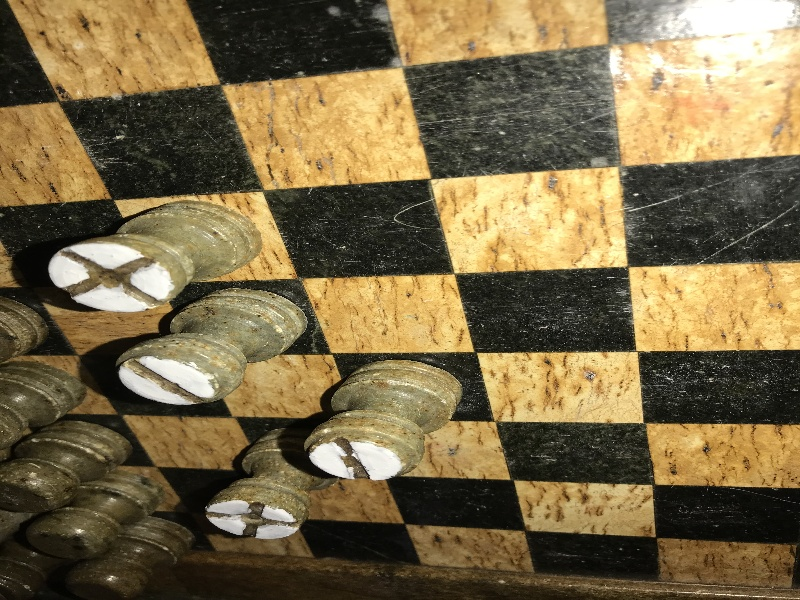WhiteBishop: (50, 201, 261, 313), (207, 429, 334, 539)
WhiteRook: (117, 290, 308, 405), (305, 361, 462, 480)
